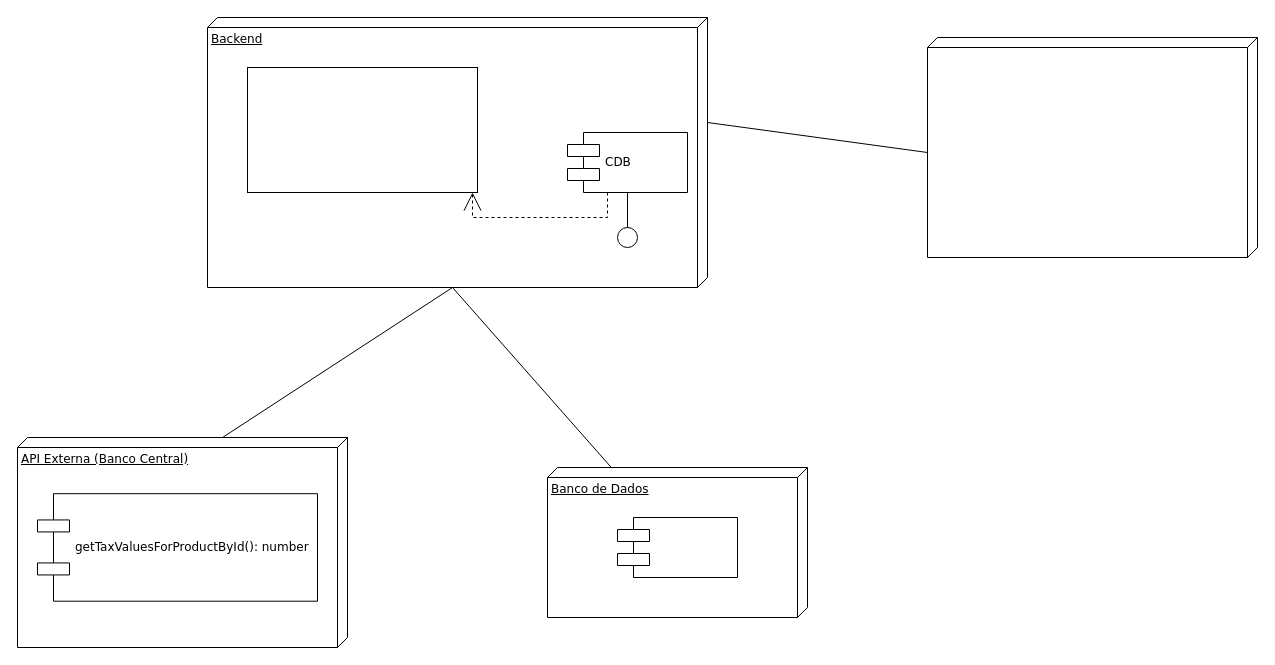
This 1275x665 diagram has some shape labels left out. Here are the shapes that lost their labels. From the top down, the centre of each, then its label:
At point (362, 129): "«abstract class» valueInvest: number fee: number getProjectValue(): number".
At point (1092, 147): "Mobile".
At point (677, 547): "findProduct".
